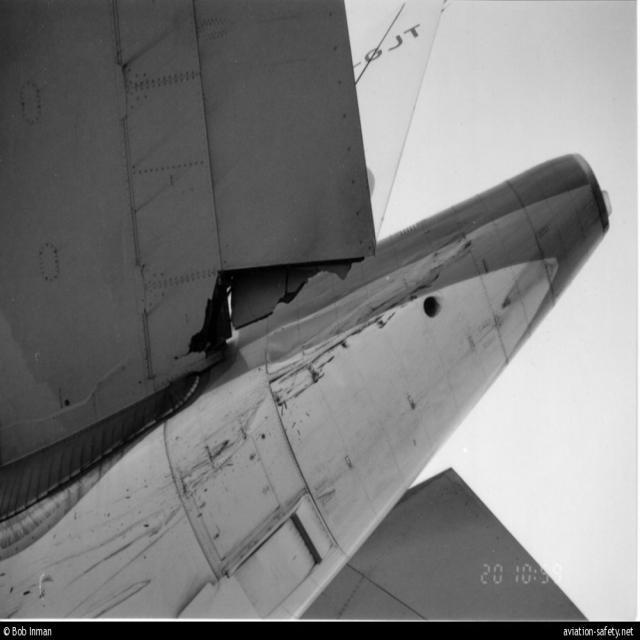crack: (176, 252, 369, 361)
